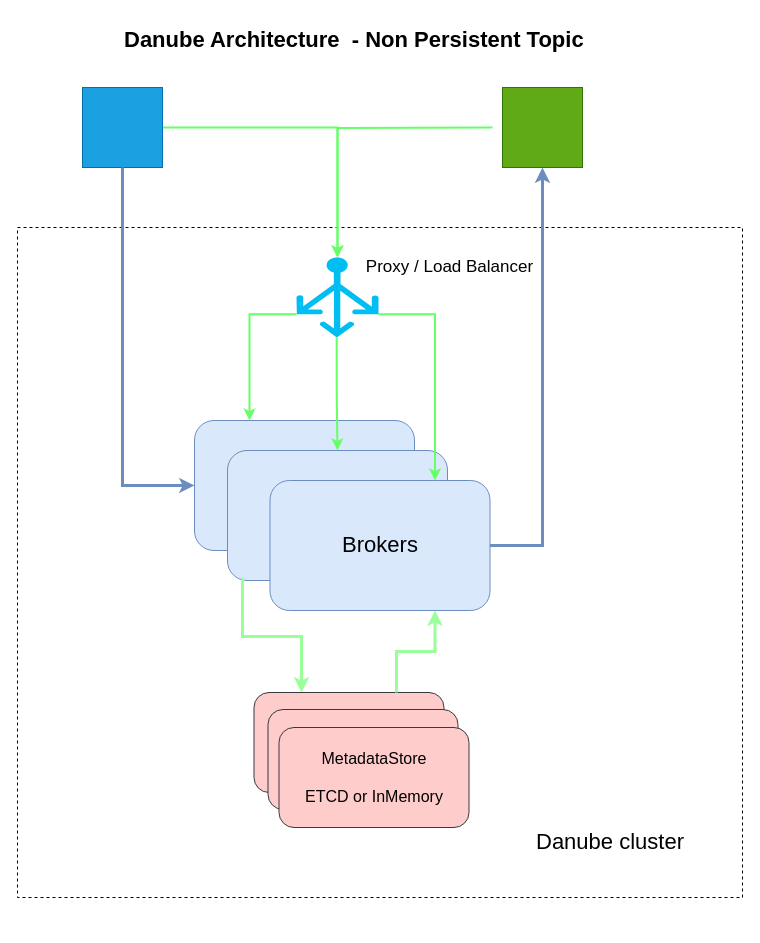
This 760x943 diagram has some shape labels left out. The centre of each missing label's shape, as x and y in pixels:
"Consumer APP" goes at [542,127].
"Producer APP" goes at [122,127].
